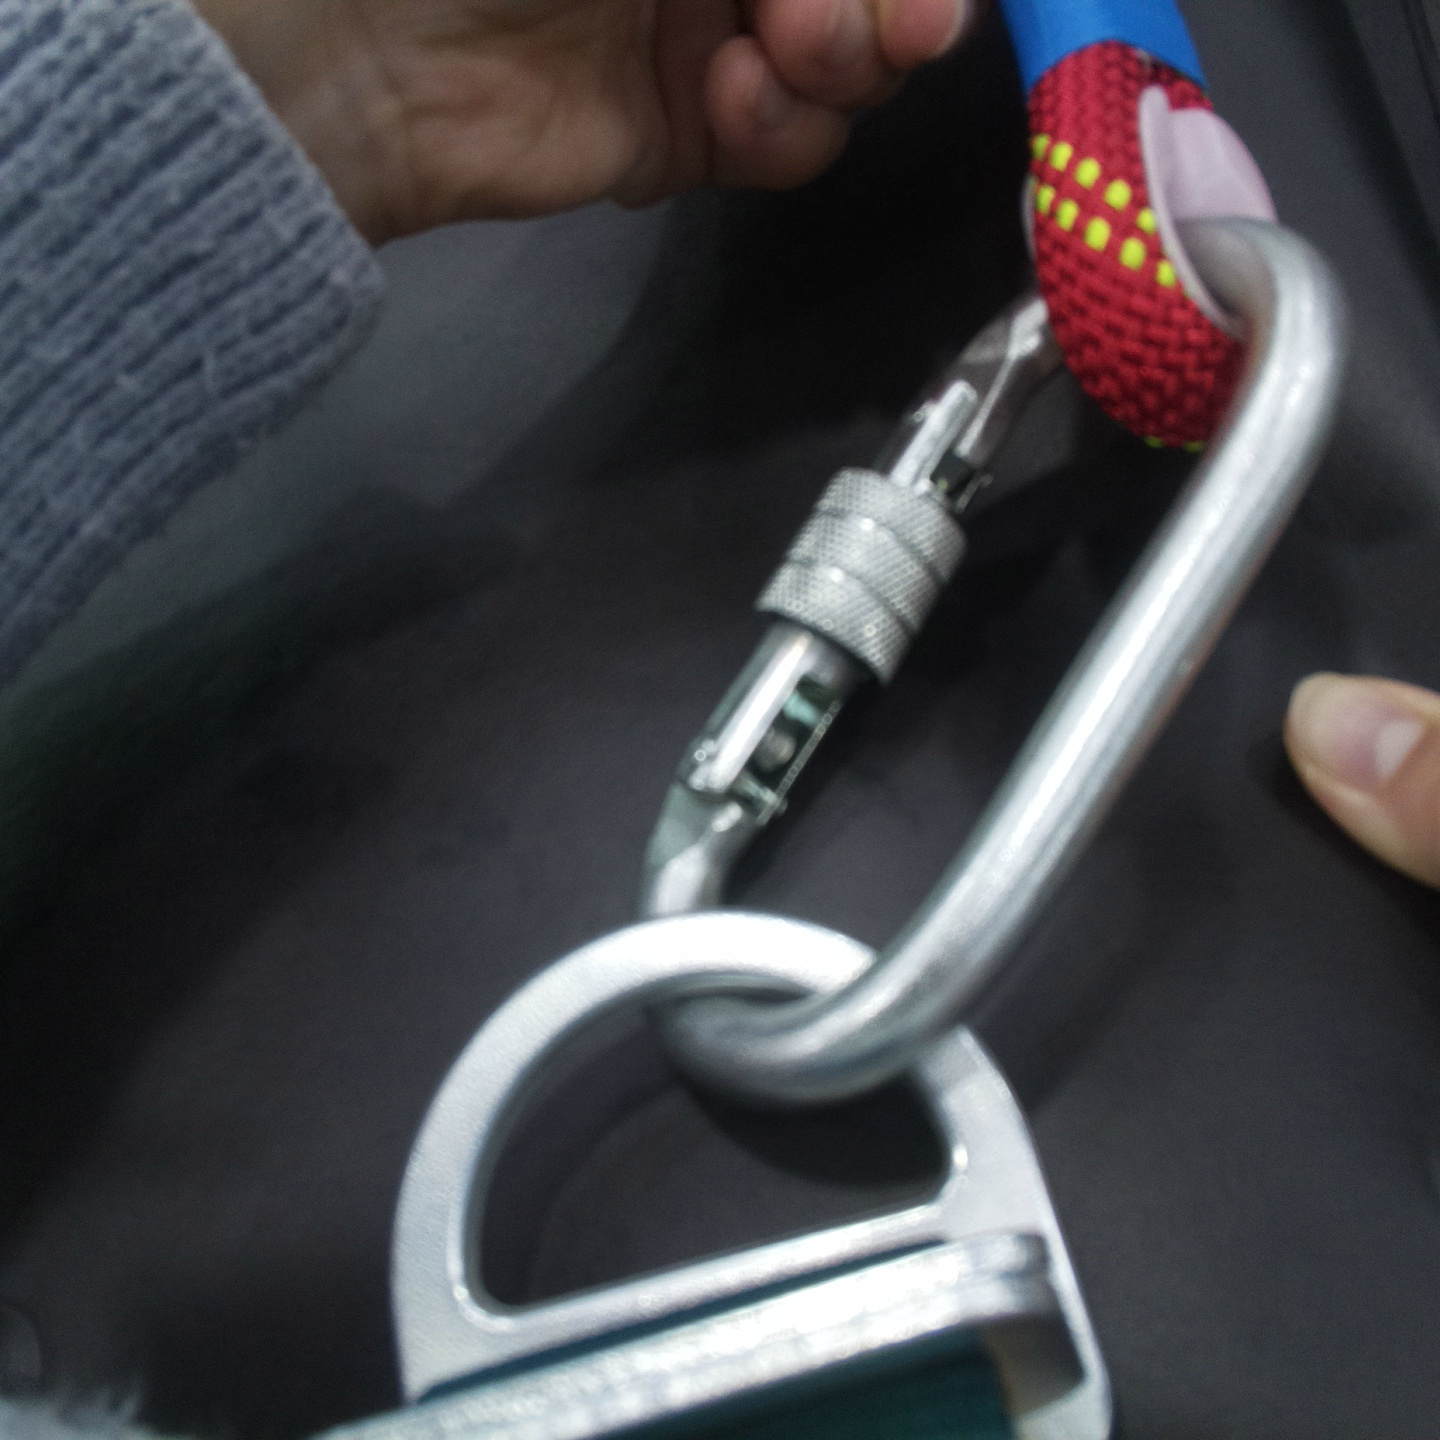SUCCESS: (371, 520, 1137, 1391)
